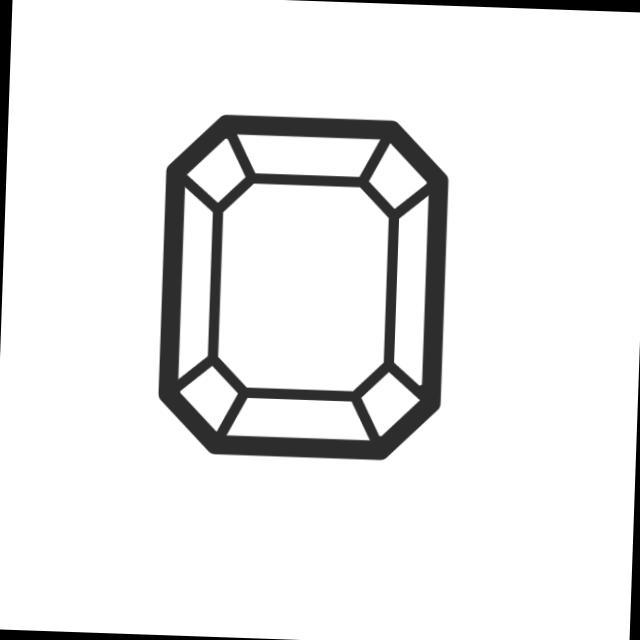emerald: (150, 105, 460, 470)
